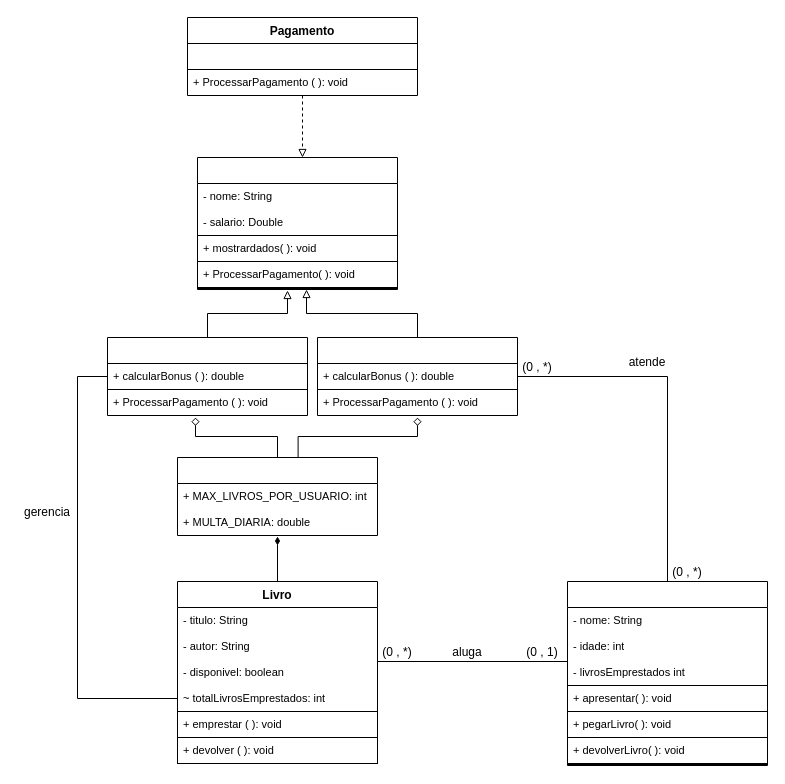
Image size: 785x784. Some labels were removed from this diagram. The box of each missing label's shape, as (x1, y1, x2, y2) in pixels:
Biblioteca: (176, 456, 378, 536)
Bibliotecario: (316, 336, 518, 416)
Funcionário: (196, 156, 398, 290)
Gerente: (106, 336, 308, 416)
Usuario: (566, 580, 768, 766)
~ ProcessarPagamento (double valor): void: (186, 42, 418, 70)
